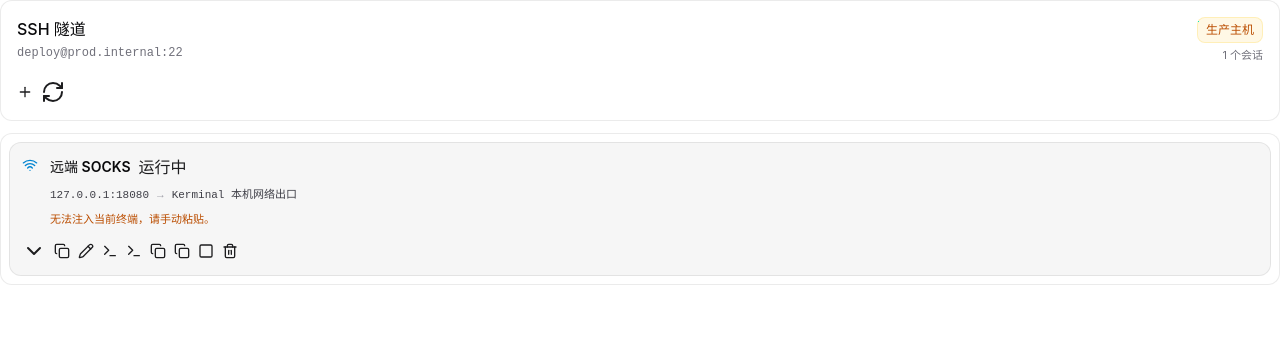
Test case: PortForwardToolContent › stops a running tunnel without deleting its saved configuration
Click the button named "停止隧道": click(206, 251) [198, 239, 214, 263]
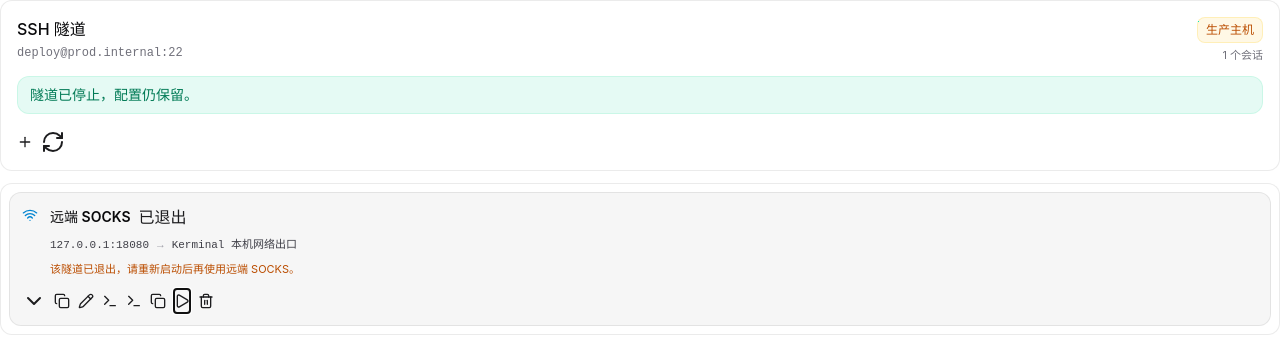
Expected: the button named "删除隧道" is shown, [198, 289, 214, 313]
Expected: the text "隧道已停止，配置仍保留。" is shown, [17, 76, 1263, 114]
Expected: the button named "启动隧道" is shown, [174, 289, 190, 313]
